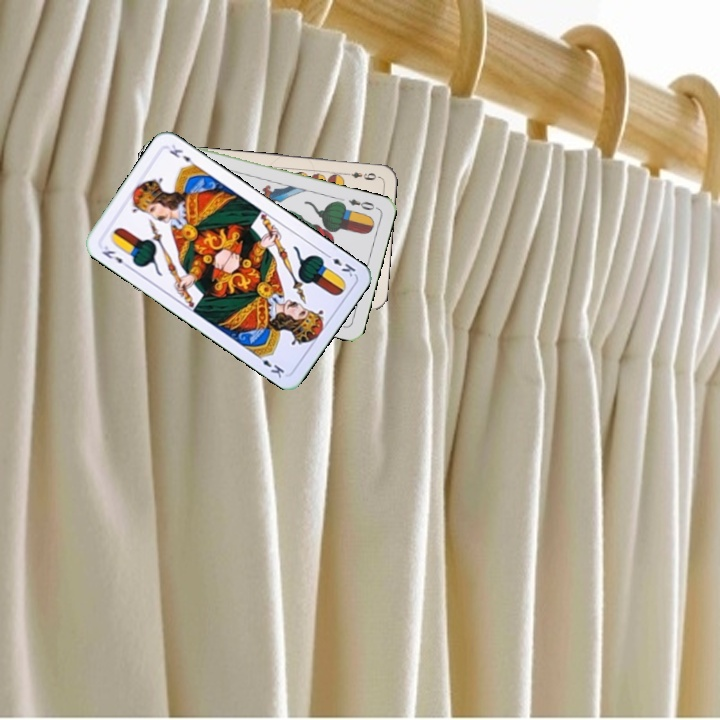E9: (341, 168, 381, 183)
EK: (321, 249, 358, 279), (98, 242, 132, 271)
EO: (344, 194, 380, 213)
